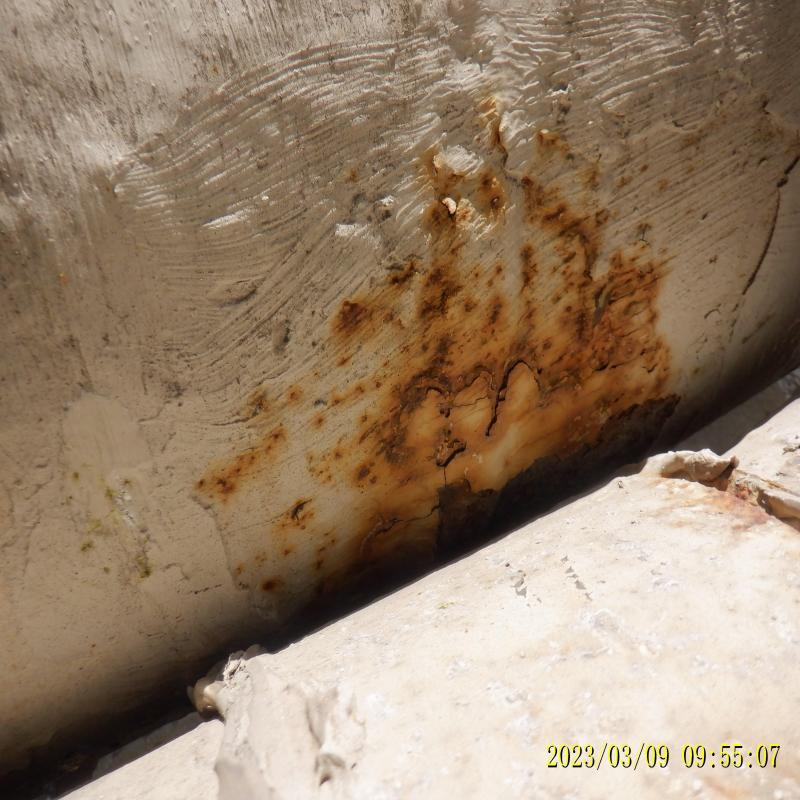corrosion: (366, 292, 660, 463), (450, 190, 574, 268)
